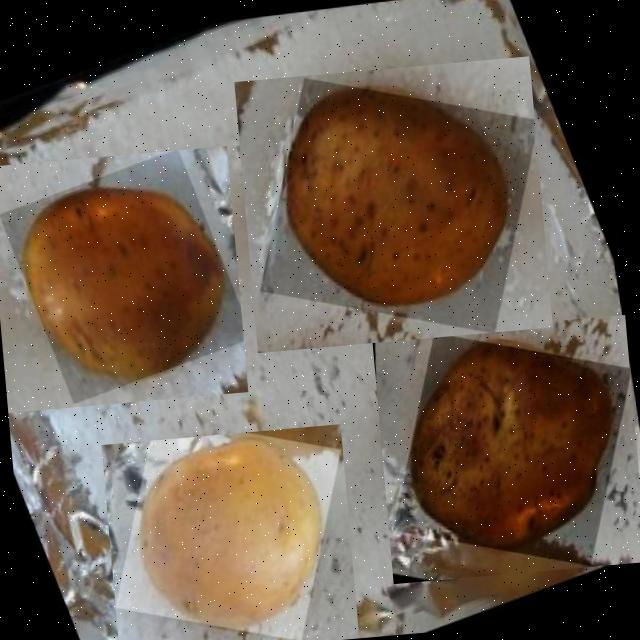Potato: (233, 55, 552, 352), (370, 313, 640, 582), (0, 144, 247, 411), (99, 423, 358, 640)
